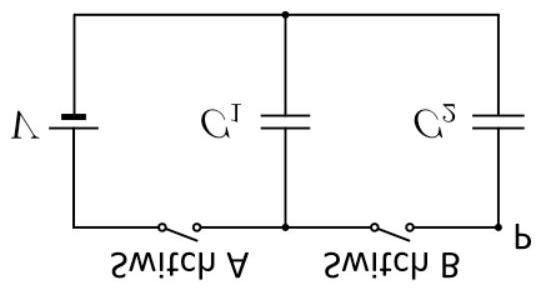Capacitor: (241, 84, 325, 150)
